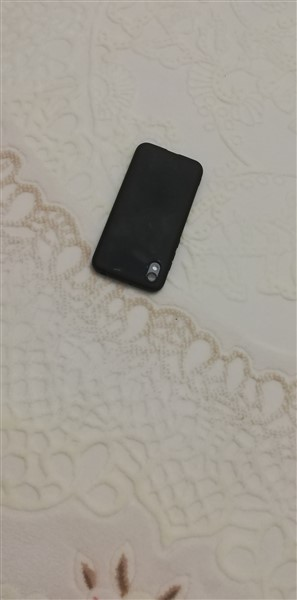telefon: (89, 141, 210, 301)
